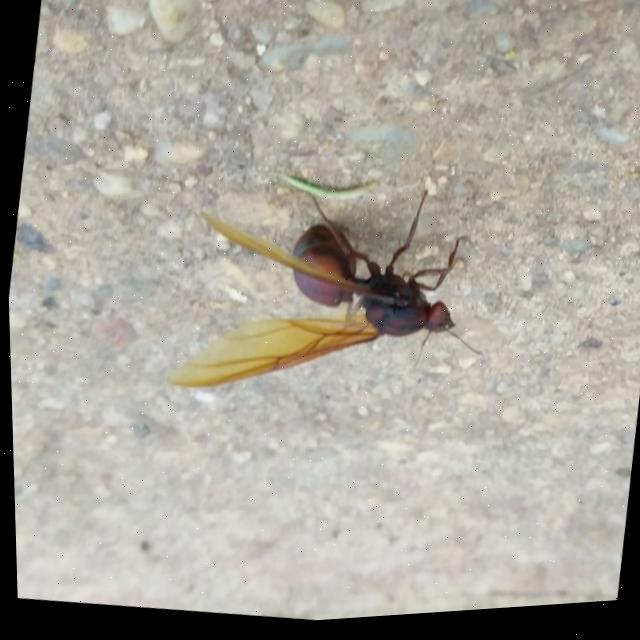Alive-Female-Alate: (158, 158, 504, 432)
